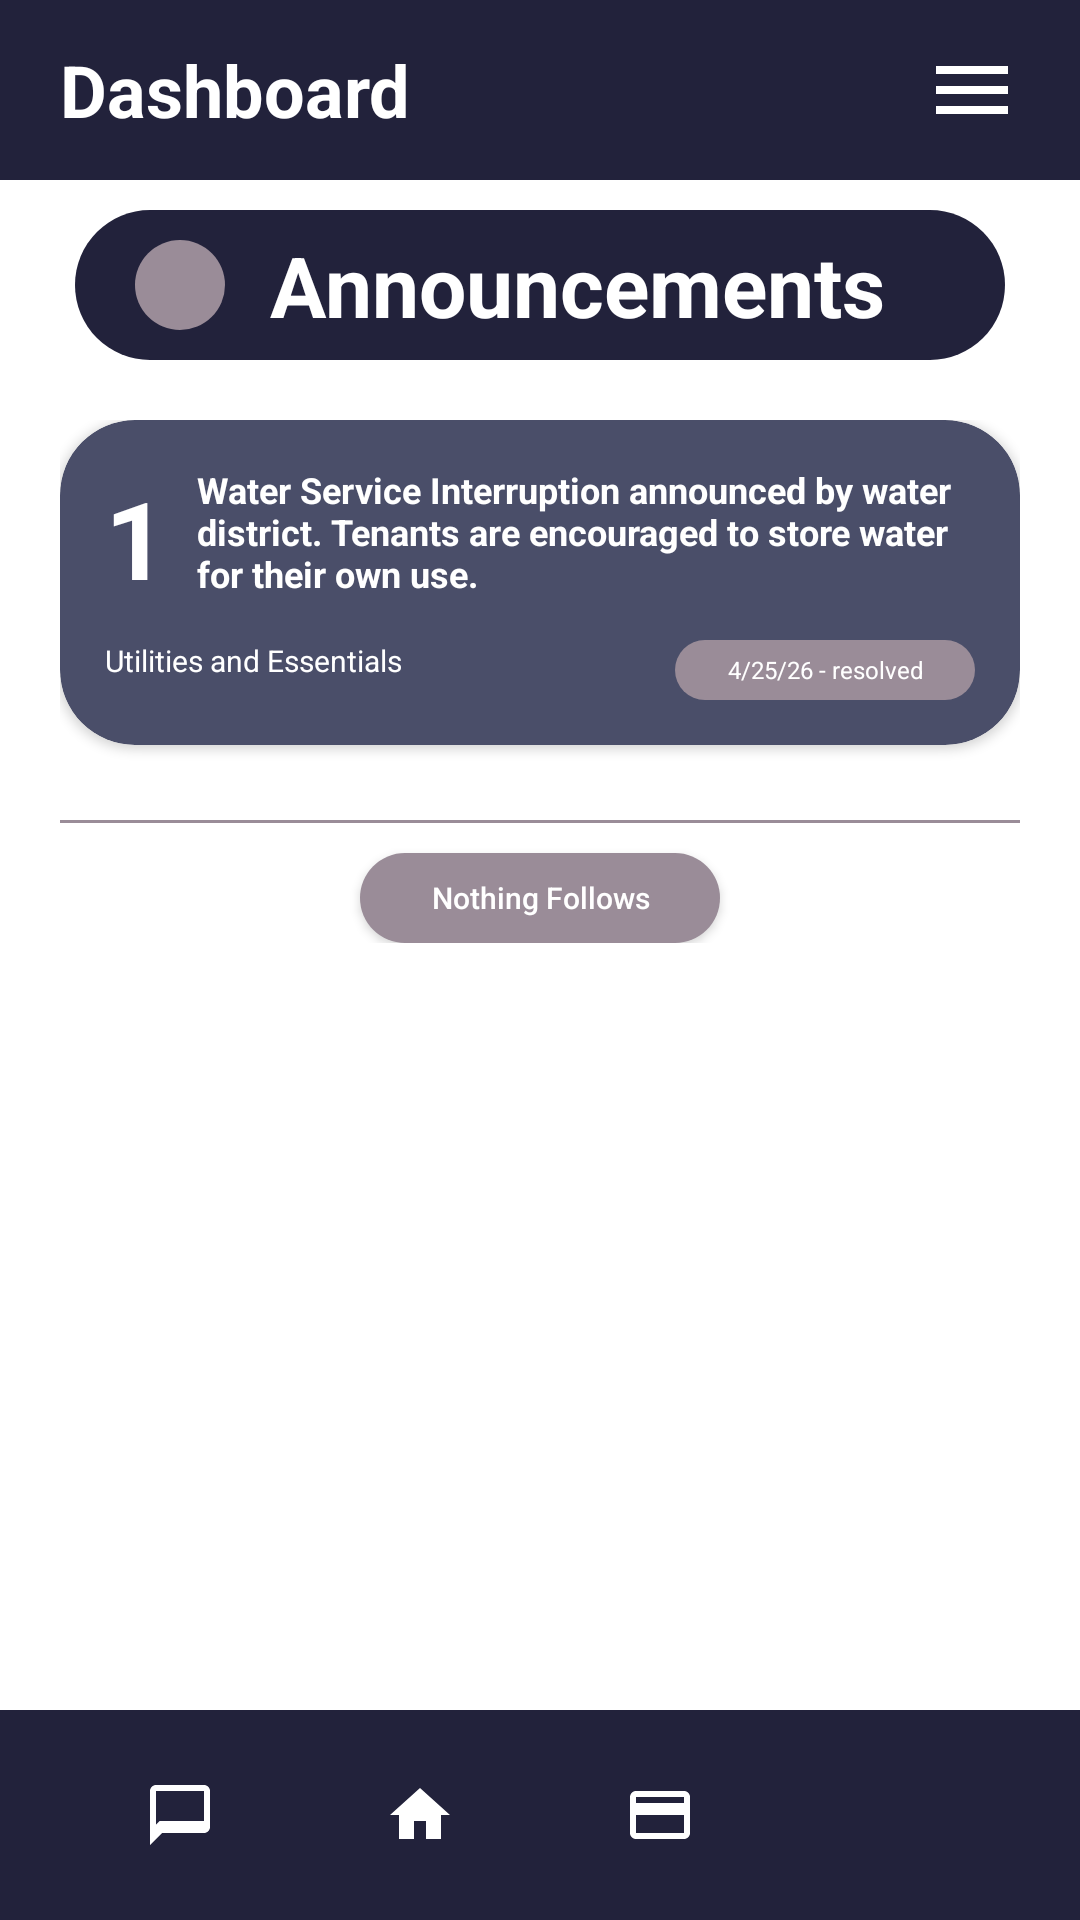

Screen size 1080 x 1920. Icon name, then its box in pixels as (x1, y1, x2, y2):
Home: (390, 1788, 450, 1839)
Menu: (936, 66, 1008, 114)
Messages: (150, 1785, 210, 1845)
Payments: (630, 1791, 690, 1839)
